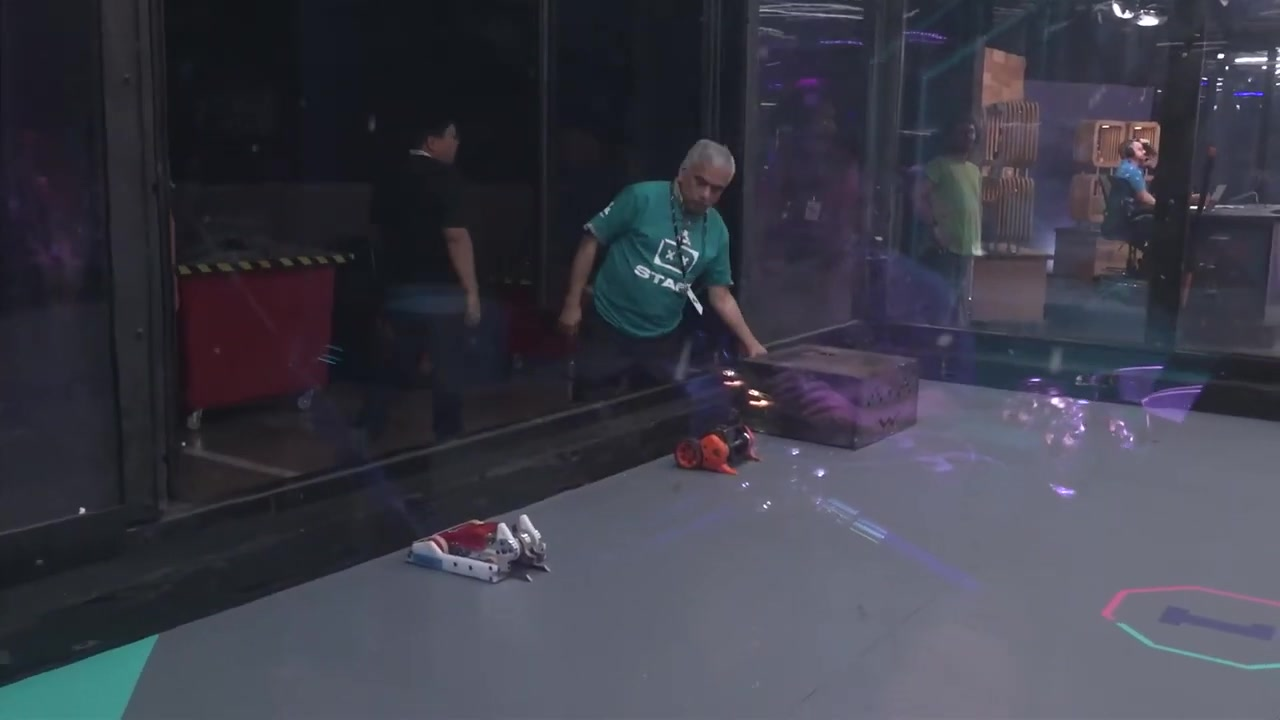combatbot: (411, 510, 550, 586), (671, 424, 760, 476)
housebot: (728, 343, 923, 451)
